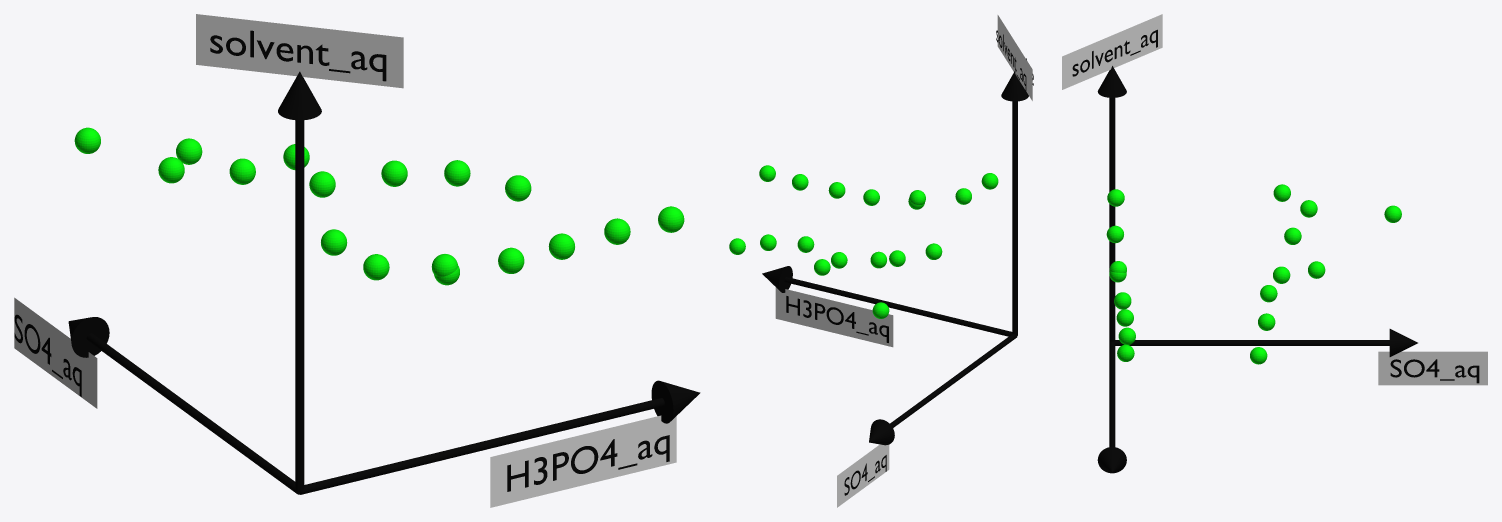
Rendered from LLC washing 130823 solvent_aq.glb.
3 renders of one model, left to right at view 1: azimuth 30°, elevation 25°; view 2: azimuth 150°, elevation 25°; view 3: azimuth 270°, elevation 25°, orthographic. The views are drawn at different scales.
Parts seen in each view (by area): view 1: Plane.008, Plane.006, Plane.007, Z-axis.003, X-axis.002, Y-axis.002, X.005, Z.005, Z-arrow.002, Y-arrow.002, X-arrow.002; view 2: Plane.006, Plane.007, X-axis.002, Z-axis.003, Plane.008, Y-axis.002, X.004, Y-arrow.002, Z-arrow.002, X-arrow.002; view 3: Plane.007, Plane.008, Y-axis.002, Z-axis.003, X-axis.002, Y.004, X-arrow.002, Z.004, Z-arrow.002.
Boxes of the visible parts, x1,y1,x2,y2 form: Plane.008: [196, 14, 403, 88]; Plane.006: [490, 415, 676, 507]; Plane.007: [14, 297, 97, 408]; Z-axis.003: [295, 120, 304, 492]; X-axis.002: [300, 398, 664, 494]; Y-axis.002: [86, 333, 299, 494]; X.005: [507, 435, 669, 491]; Z.005: [210, 30, 386, 81]; Z-arrow.002: [278, 71, 321, 120]; Y-arrow.002: [68, 317, 109, 357]; X-arrow.002: [651, 380, 700, 423]; Plane.006: [775, 287, 893, 347]; Plane.007: [837, 444, 889, 507]; X-axis.002: [784, 277, 1012, 336]; Z-axis.003: [1012, 101, 1017, 335]; Plane.008: [997, 15, 1032, 100]; Y-axis.002: [890, 334, 1017, 427]; X.004: [786, 296, 888, 342]; Y-arrow.002: [869, 419, 894, 445]; Z-arrow.002: [1001, 71, 1028, 101]; X-arrow.002: [762, 266, 792, 292]; Plane.007: [1378, 351, 1487, 385]; Plane.008: [1062, 14, 1162, 89]; Y-axis.002: [1114, 340, 1389, 345]; Z-axis.003: [1109, 98, 1115, 342]; X-axis.002: [1109, 341, 1115, 446]; Y.004: [1390, 359, 1479, 383]; X-arrow.002: [1097, 447, 1126, 473]; Z.004: [1072, 29, 1157, 76]; Z-arrow.002: [1097, 66, 1126, 97].
Size of the model in its own units: 1.22 by 1.33 by 1.46.
